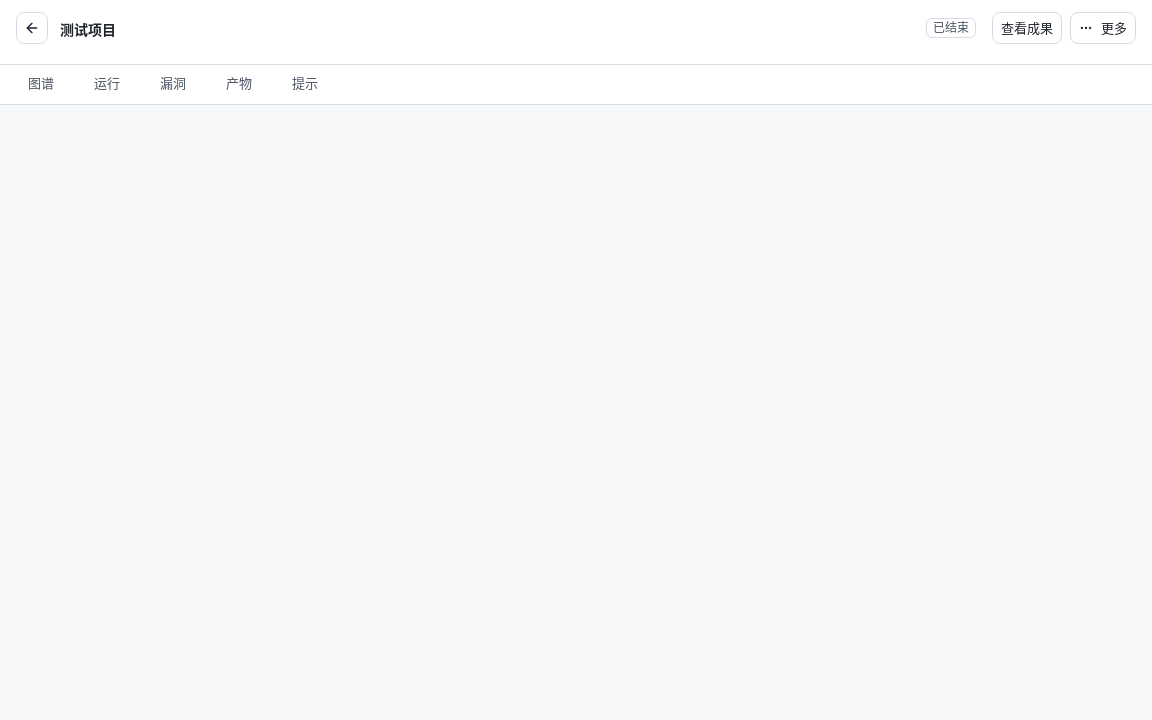
Test: ProjectWorkspace shared control migration › groups secondary actions and routes delete through ConfirmAction
Click the button with aria-label "项目更多操作": (1103, 28) [1070,12,1136,44]
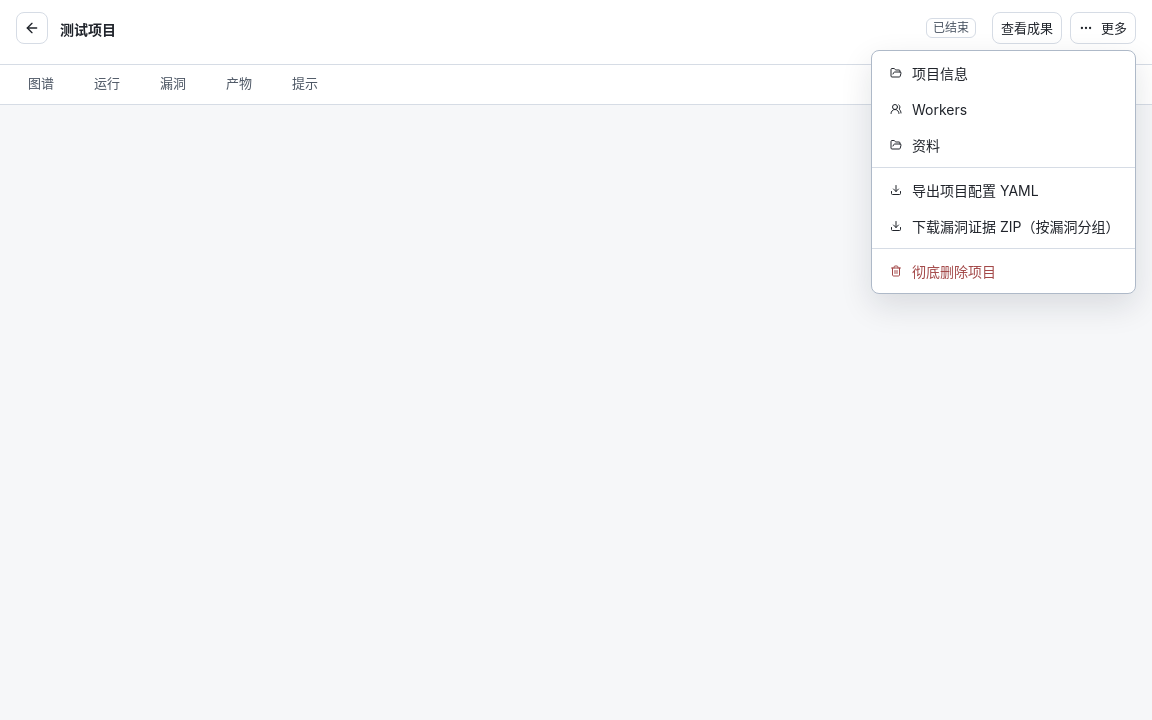
Expected: the menu is shown, [871,50,1136,294]
Click the menu item "彻底删除项目": (943, 271) [890,262,996,280]
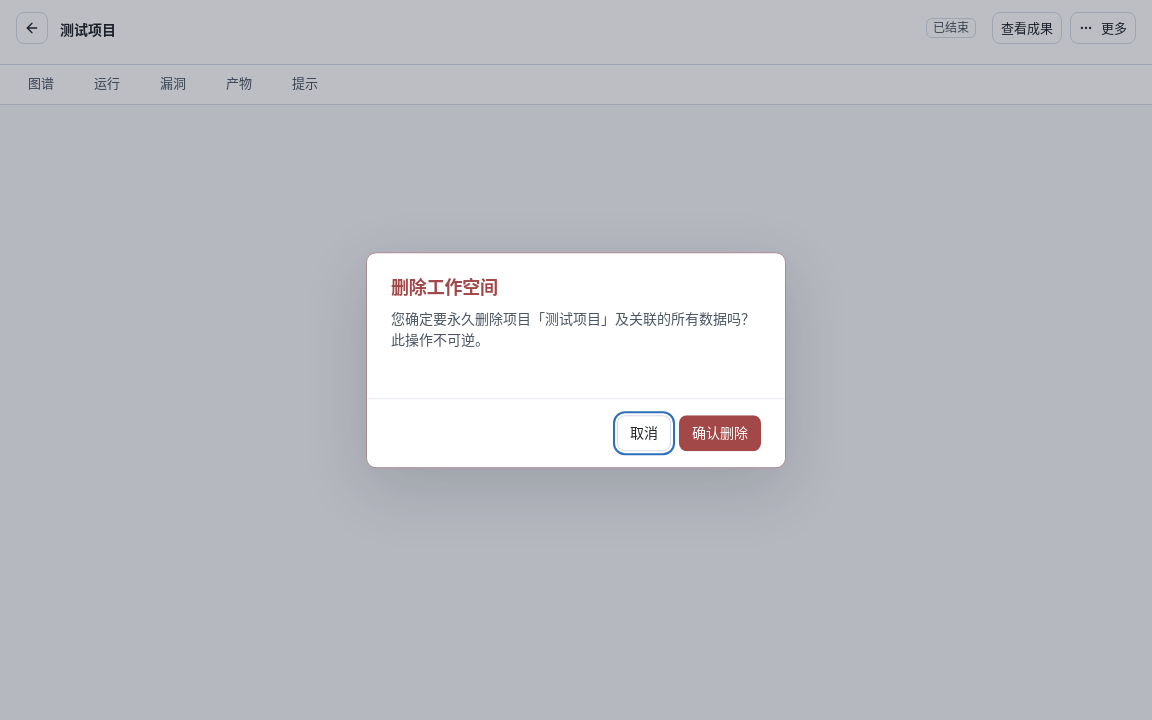
Expected: the menu is gone
Expected: the dialog shows "删除工作空间", [391,277,498,298]
Expected: the text "您确定要永久删除项目「测试项目」" is shown, [391,310,755,348]
